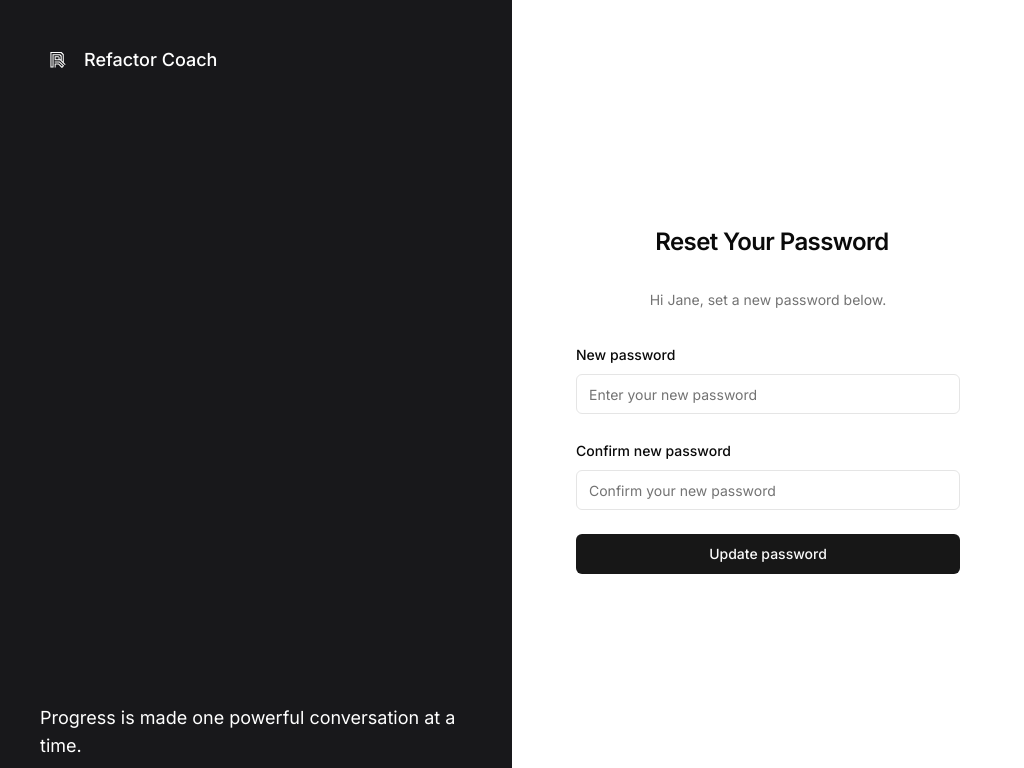
Test: ResetPasswordPage — complete step › returns to ready state with inline error on 422 validation_error
Expected: the text "Hi Jane, set a new password below." is shown, x1=650 y1=291 x2=886 y2=308
Step 1. Type "longenoughpassword" into the password field labelled "New password" → (768, 394), box x1=576 y1=374 x2=960 y2=414
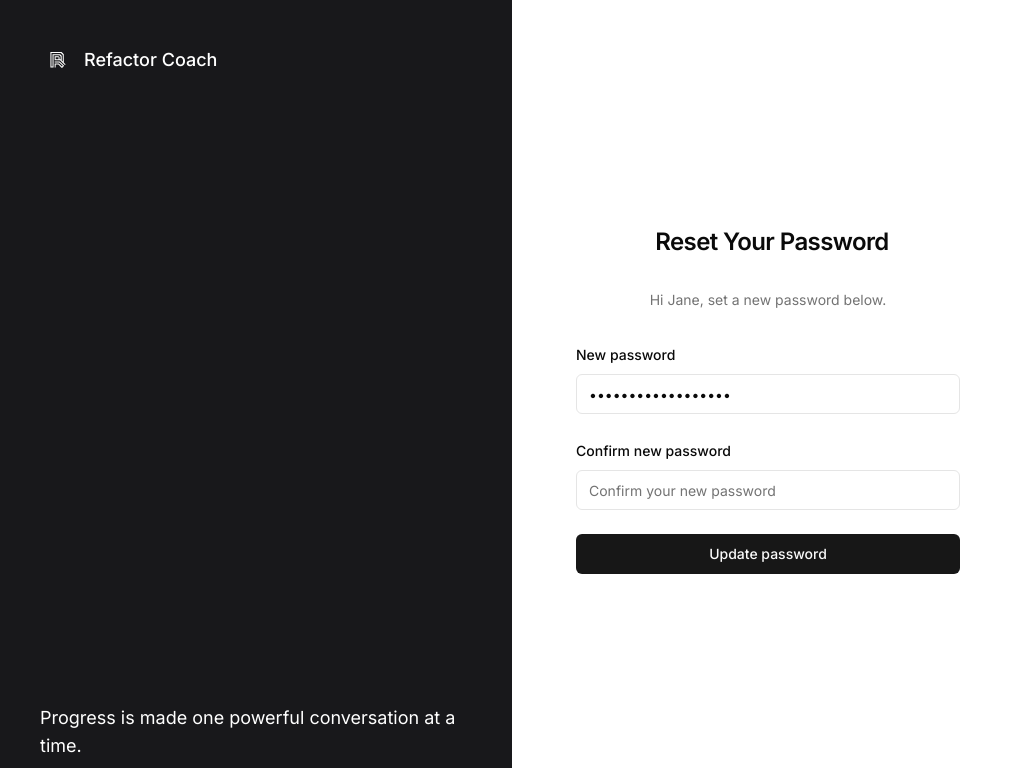
Step 2. Type "longenoughpassword" into the password field labelled "Confirm new password" → (768, 490), box x1=576 y1=470 x2=960 y2=510
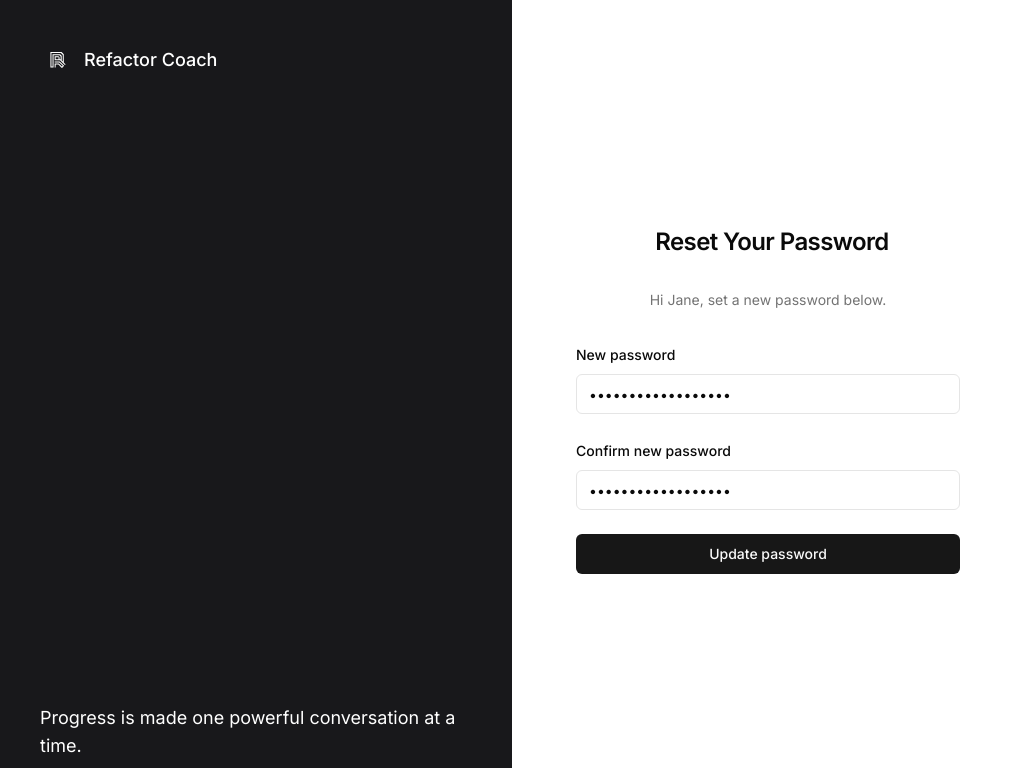
Step 3. Click the button "Update password" → (768, 554), box x1=576 y1=534 x2=960 y2=574
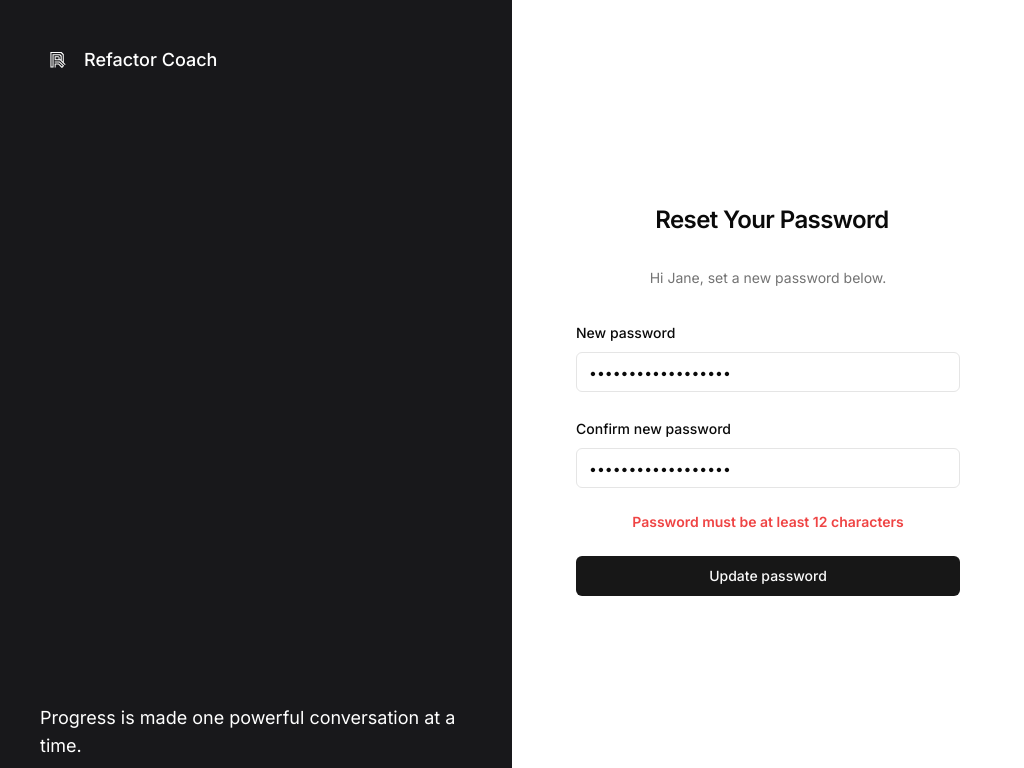
Expected: the text "Password must be at least 12 characters" is shown, x1=632 y1=513 x2=904 y2=530
